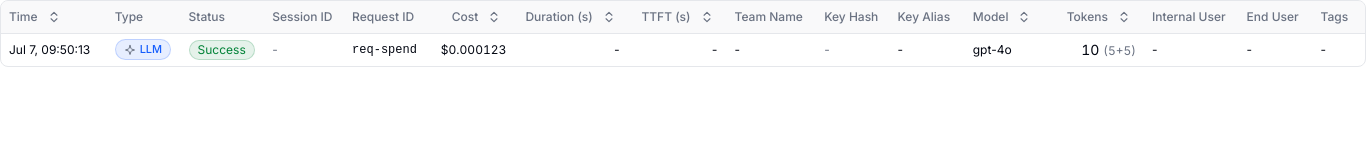
Test case: Cost column › shows the full-precision raw value in the tooltip for a real spend
Hover over the text "$0.000123".
mouse_move(474, 50)  # box [441,42,506,58]
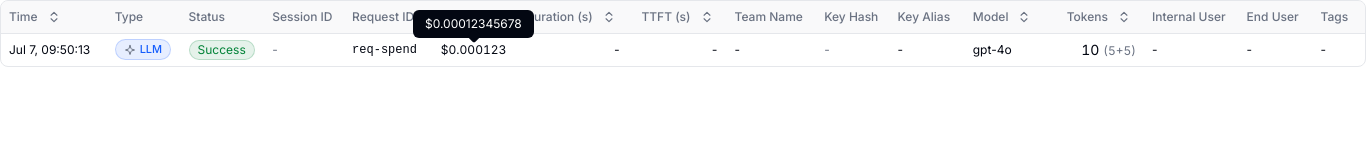
expect the text "$0.00012345678" is shown: met, box [413,10,534,38]
